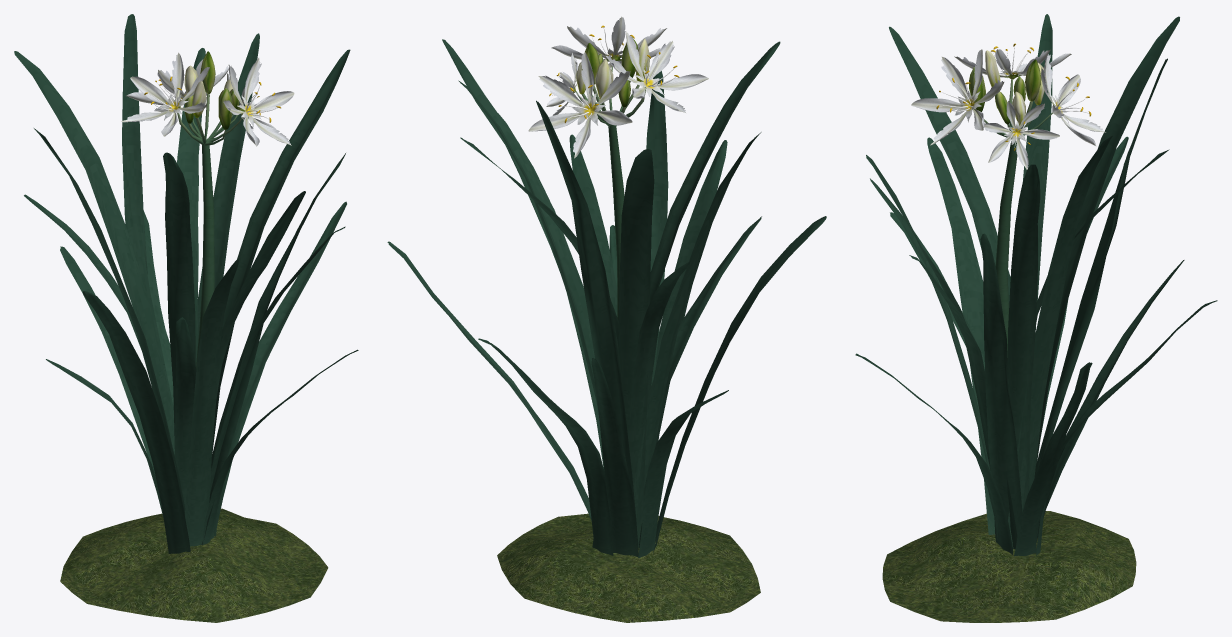
File: GiglioStellatoV2.glb
The picture shows the model from 3 angles, left to right: view 1: azimuth 30°, elevation 25°; view 2: azimuth 150°, elevation 25°; view 3: azimuth 270°, elevation 25°; orthographic projection. The views are drawn at different scales.
Visible parts, largest first — view 1: Foglie, Erba2, FioreGiglioBianco3.003, FioreGiglioBianco3.001, Giglio, Plane.055, FioreGiglioBianco3.002; view 2: Foglie, Erba2, FioreGiglioBianco3.002, FioreGiglioBianco3.003, FioreGiglioBianco3.001, Giglio; view 3: Foglie, Erba2, FioreGiglioBianco3.001, Giglio, FioreGiglioBianco3.004, FioreGiglioBianco3.002, FioreGiglioBianco3.003, GamboGiglio.002.
Part boxes in pixels (box(x1,y1,x2,y2)): Foglie: box(14, 14, 358, 553); Erba2: box(60, 508, 328, 622); FioreGiglioBianco3.003: box(121, 52, 209, 136); FioreGiglioBianco3.001: box(223, 58, 294, 146); Giglio: box(196, 143, 214, 368); Plane.055: box(177, 94, 242, 145); FioreGiglioBianco3.002: box(126, 59, 230, 112); Foglie: box(387, 39, 826, 557); Erba2: box(497, 513, 760, 622); FioreGiglioBianco3.002: box(528, 52, 632, 158); FioreGiglioBianco3.003: box(605, 31, 708, 112); FioreGiglioBianco3.001: box(551, 16, 666, 67); Giglio: box(608, 125, 624, 320); Foglie: box(855, 14, 1217, 556); Erba2: box(882, 511, 1136, 622); FioreGiglioBianco3.001: box(911, 49, 1004, 145); Giglio: box(995, 141, 1017, 357); FioreGiglioBianco3.004: box(984, 100, 1059, 169); FioreGiglioBianco3.002: box(1041, 50, 1105, 146); FioreGiglioBianco3.003: box(954, 46, 1071, 79); GamboGiglio.002: box(1025, 59, 1041, 101).
Bounding box in the file's own units: 0.6201 × 0.8958 × 0.5479.
Materials: 7 (6 with a texture image).
